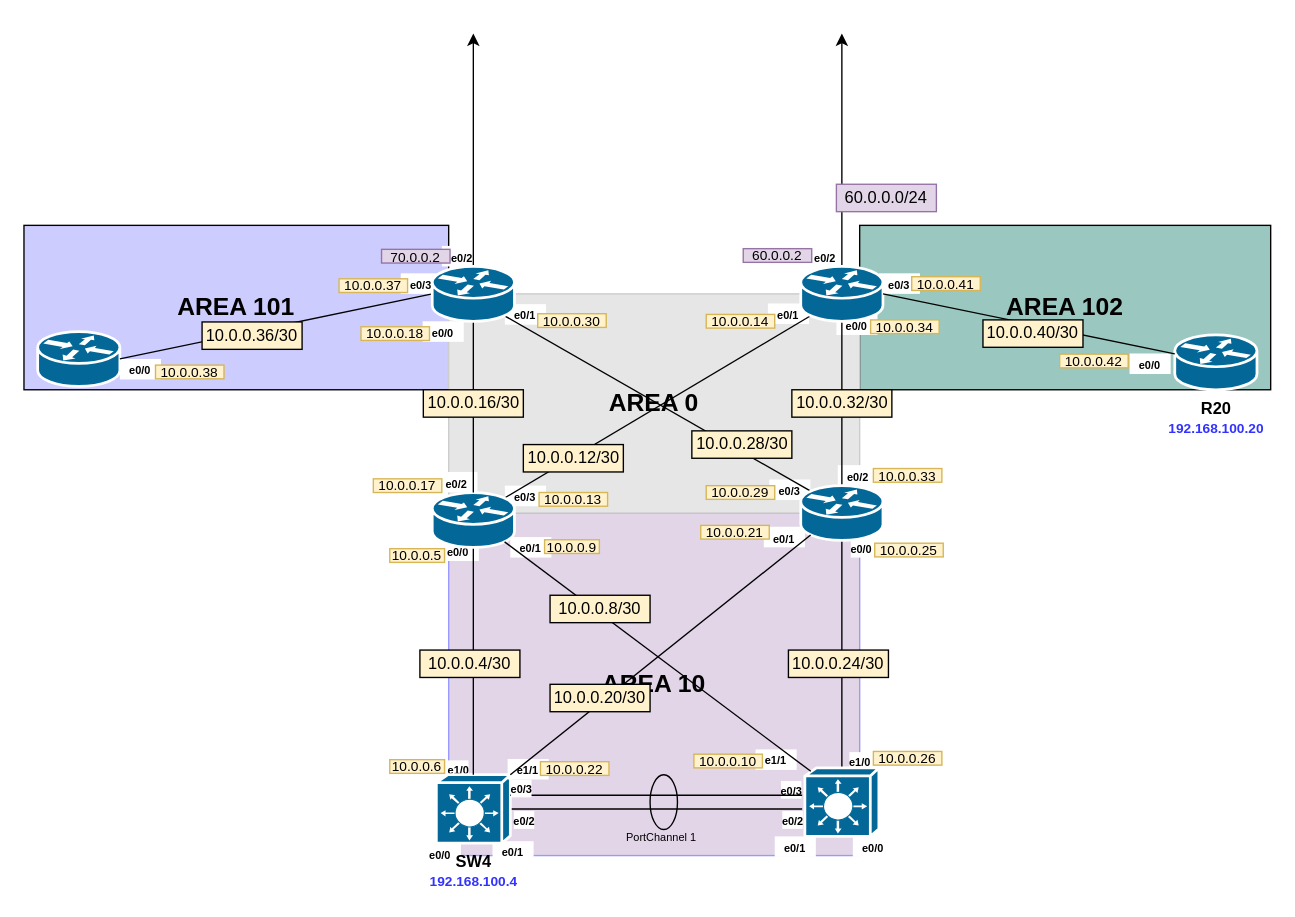
Image size: 1295x917. Some labels were removed from this diagram. The centre of each missing label's shape, as x and y in pixels:
"R12 192.168.100.12" belongs at (472,519).
"R13 192.168.100.13" belongs at (841,512).
"R14 192.168.100.14" belongs at (472,293).
"R15 192.168.100.15" belongs at (841,293).
"R19 192.168.100.19" belongs at (78,358).
"SW5 192.168.100.5" belongs at (841,801).
